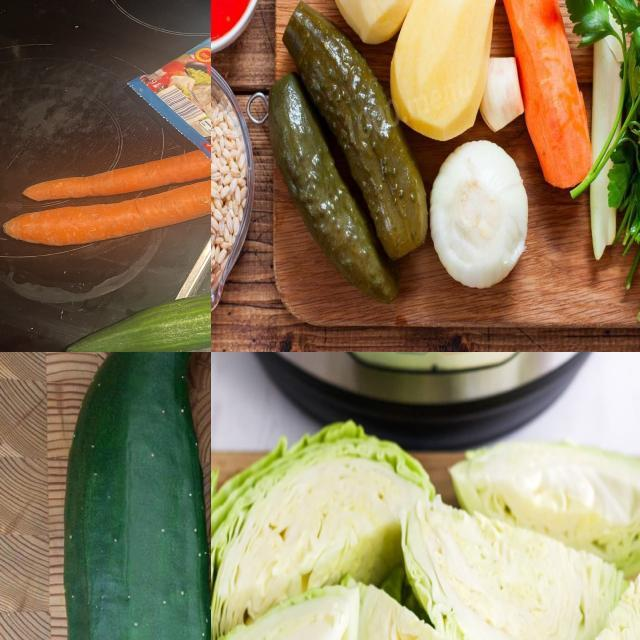cabbage: (212, 417, 441, 640), (398, 490, 640, 640), (447, 433, 640, 579), (340, 574, 548, 640)
carrot: (1, 158, 212, 248), (1, 128, 212, 197), (521, 42, 582, 167), (487, 1, 553, 33)
cucumber: (54, 353, 212, 640), (32, 254, 212, 353), (302, 24, 386, 154), (350, 128, 418, 234), (276, 101, 323, 199)
onion: (438, 147, 526, 279)
potato: (419, 1, 487, 132)
